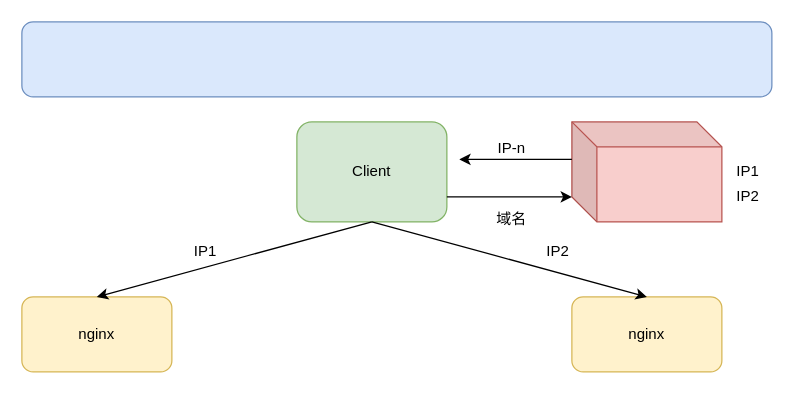
The diagram is 794 pixels wide and 394 high, and some of its shapes have lost their labels. The shapes that lost their labels are listed below. From the top down, each one's centre as x and y in pixels, then its label:
(396,59): 客户端-反向代理
(646,171): DNS轮询
